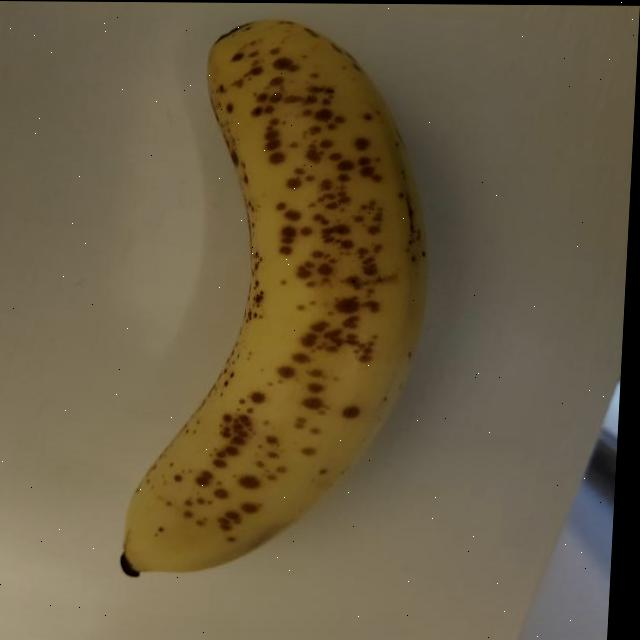banana: (114, 16, 442, 582)
